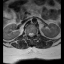CCS_normal: (30, 31, 32, 39)
LFS_stenosis: (34, 31, 36, 37)
LLS_normal: (32, 31, 34, 38)
RFS_normal: (26, 31, 28, 37)
RLS_normal: (28, 31, 30, 37)
